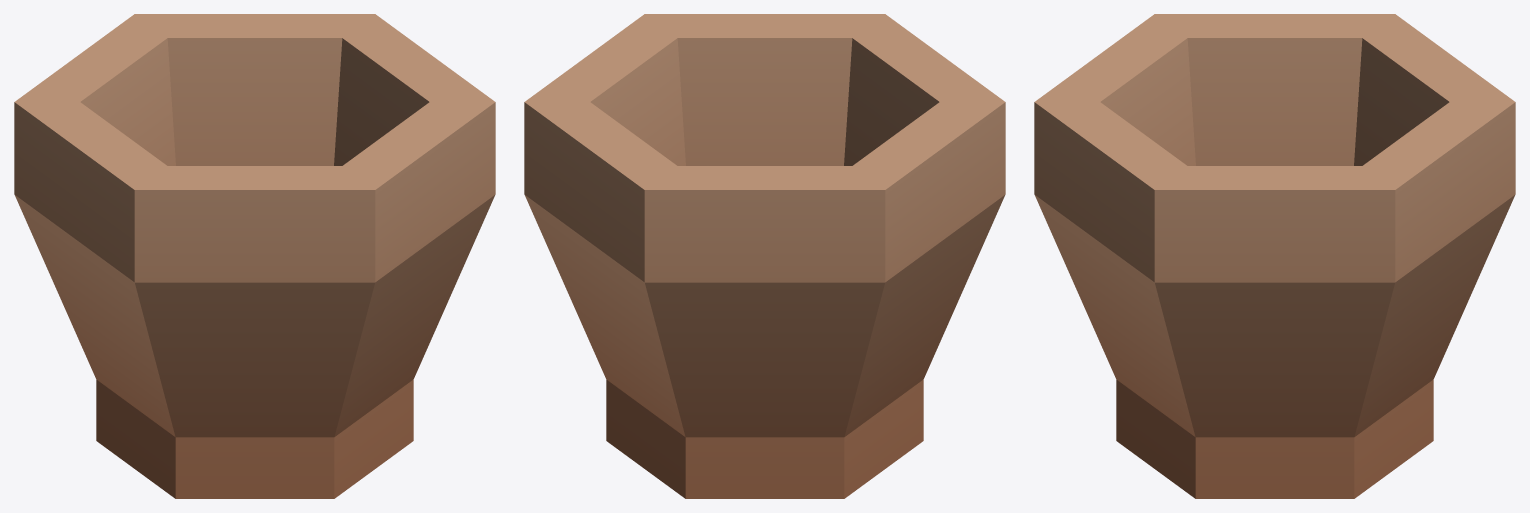
The model's file is ice-cream-cup.glb.
The picture shows the model from 3 angles, left to right: view 1: azimuth 30°, elevation 25°; view 2: azimuth 150°, elevation 25°; view 3: azimuth 270°, elevation 25°; orthographic projection.
Parts seen in each view (by area): view 1: geometry_0; view 2: geometry_0; view 3: geometry_0.
Boxes of the visible parts, x1,y1,x2,y2 form: geometry_0: (14, 14, 495, 498); geometry_0: (524, 14, 1005, 498); geometry_0: (1034, 14, 1515, 498).
Bounding box in the file's own units: 0.9251 × 0.83 × 1.07.
